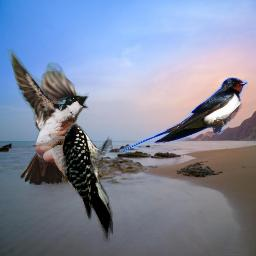Swallow: (6, 47, 89, 185), (118, 77, 248, 154)
Woodpecker: (34, 97, 113, 242)
